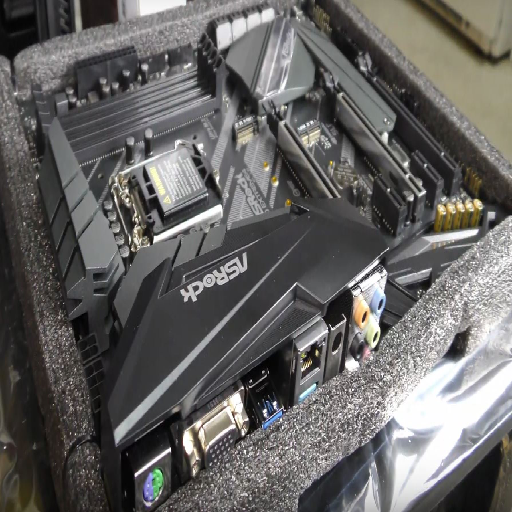CPU: (108, 140, 227, 256)
GPU: (322, 71, 427, 222), (354, 49, 462, 191), (263, 97, 343, 200)
MOTHERBOARD: (19, 7, 505, 512)
RAM: (32, 32, 227, 180)
SSD: (231, 114, 257, 145), (295, 117, 322, 145)
